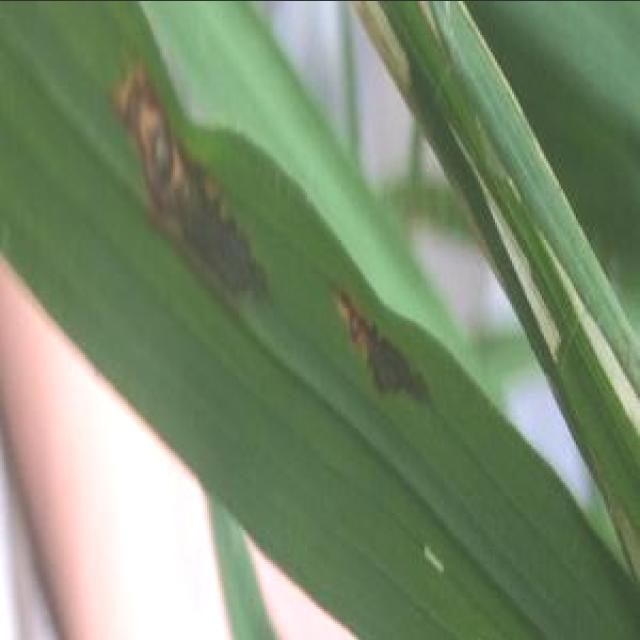Brown_Spot: (98, 55, 270, 316), (322, 285, 434, 415)
